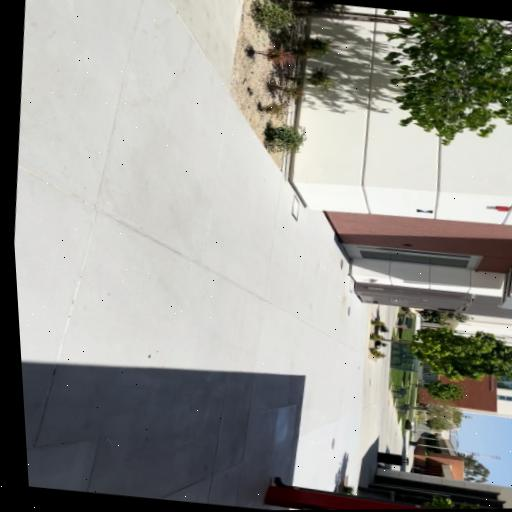target6: (417, 209, 433, 214)
